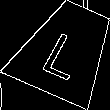L_NE: (38, 21, 94, 80)
